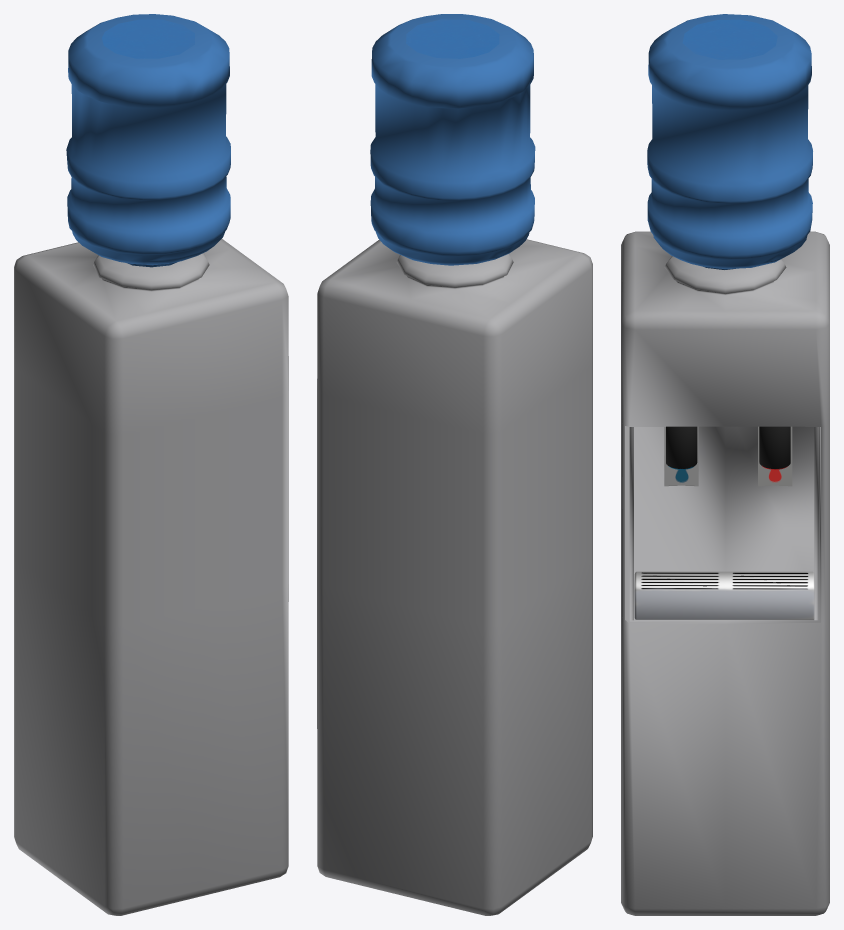
Rendered from water_dispenser.glb.
3 views of the same model, side by side, from view 1: azimuth 30°, elevation 25°; view 2: azimuth 150°, elevation 25°; view 3: azimuth 270°, elevation 25° (orthographic).
Visible parts, largest first — view 1: DispenserBody_0, WaterCan_3; view 2: DispenserBody_0, WaterCan_3; view 3: DispenserBody_0, WaterCan_3, PlasticWaterWaste_1, WaterTap2_2, WaterTap1_4.
Boxes of the visible parts, x1,y1,x2,y2 form: DispenserBody_0: (14, 239, 288, 915); WaterCan_3: (66, 14, 230, 267); DispenserBody_0: (317, 239, 592, 915); WaterCan_3: (370, 14, 535, 265); DispenserBody_0: (621, 231, 829, 915); WaterCan_3: (647, 14, 812, 269); PlasticWaterWaste_1: (634, 571, 814, 619); WaterTap2_2: (664, 426, 698, 486); WaterTap1_4: (758, 426, 792, 486).
Bounding box in the file's own units: 1.38 × 5.93 × 1.34.
Materials: 5 (5 with a texture image).
